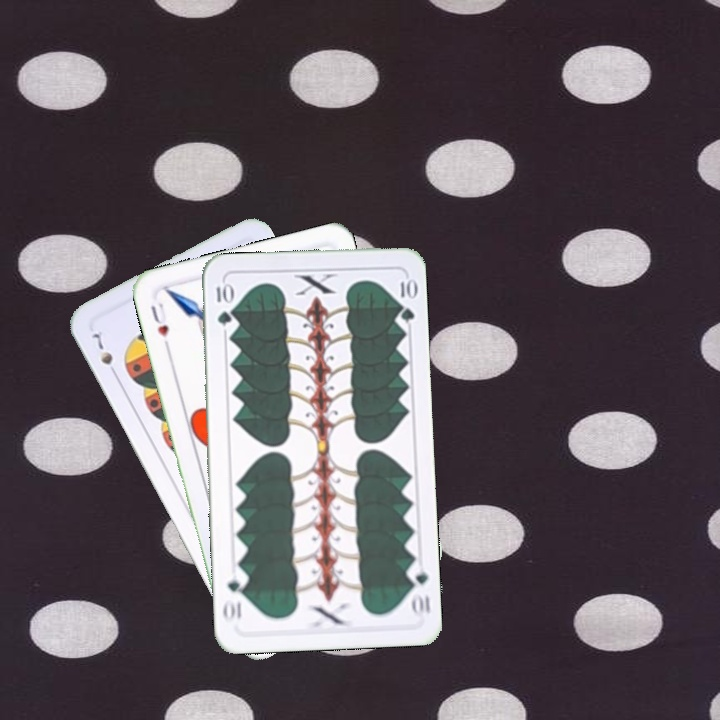G10: (404, 560, 433, 619), (212, 279, 234, 328)
HU: (146, 298, 173, 352)
S7: (89, 325, 121, 381)
